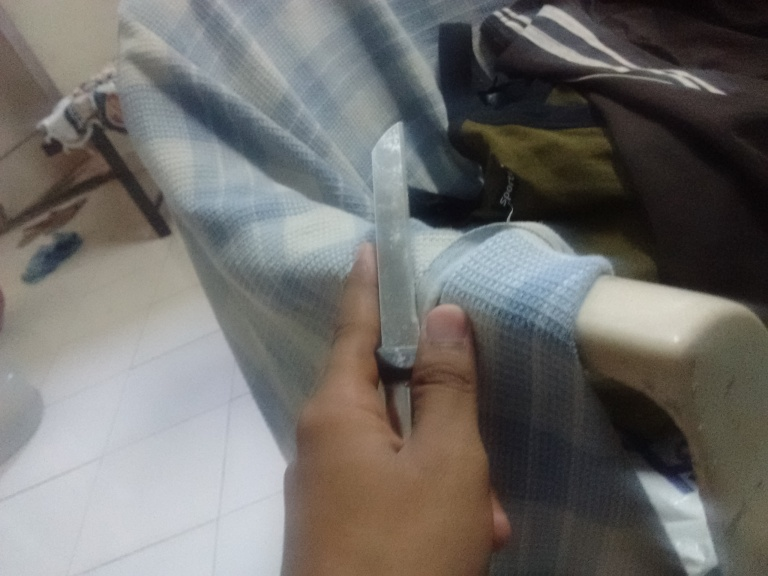knife: (368, 116, 416, 437)
